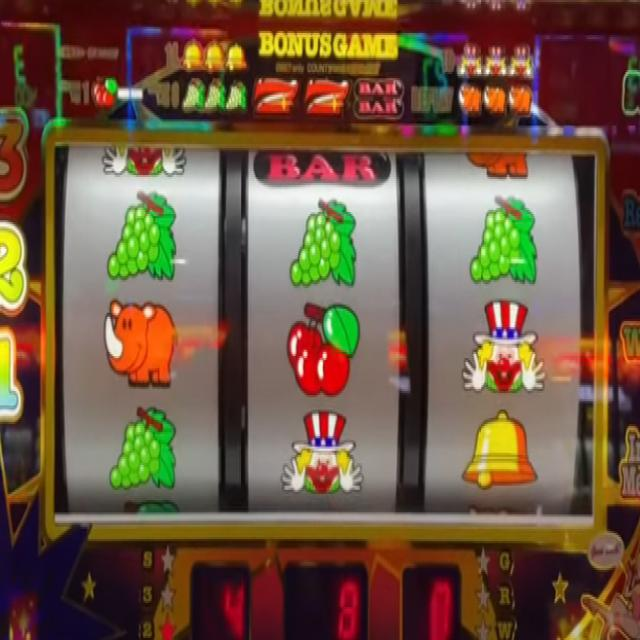bar: (253, 145, 392, 185), (353, 76, 406, 124)
bell: (461, 408, 538, 495), (225, 37, 248, 74), (182, 36, 204, 74), (205, 39, 224, 74)
cherry: (286, 302, 361, 398), (91, 73, 118, 108)
clown: (462, 298, 546, 400), (278, 406, 366, 496), (101, 143, 188, 184), (457, 43, 482, 79), (508, 46, 534, 78), (483, 46, 507, 79)
display: (54, 141, 599, 535)
elephant: (103, 298, 180, 388), (465, 150, 531, 180), (508, 83, 532, 115), (457, 82, 481, 112), (484, 85, 506, 117)
grape: (468, 192, 539, 293), (105, 187, 178, 282), (287, 197, 359, 289), (107, 402, 179, 493), (180, 79, 206, 116), (226, 79, 247, 118), (205, 80, 226, 118)
z: (305, 76, 351, 120), (255, 76, 298, 122)
